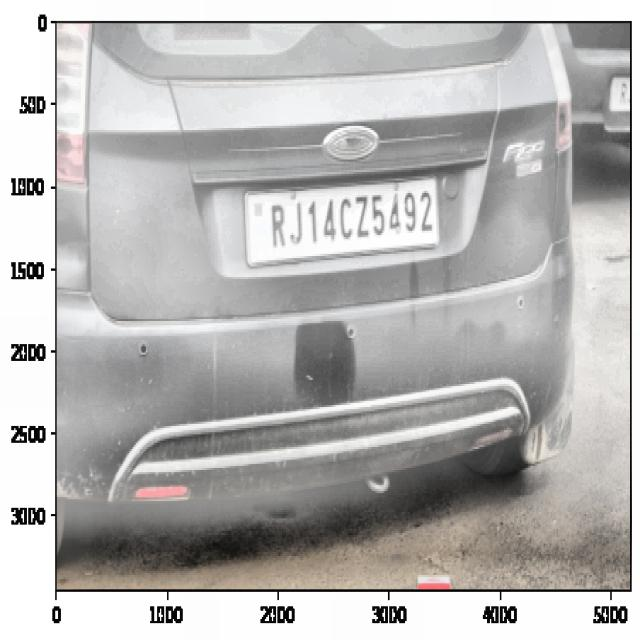license_plate: (258, 182, 436, 256)
